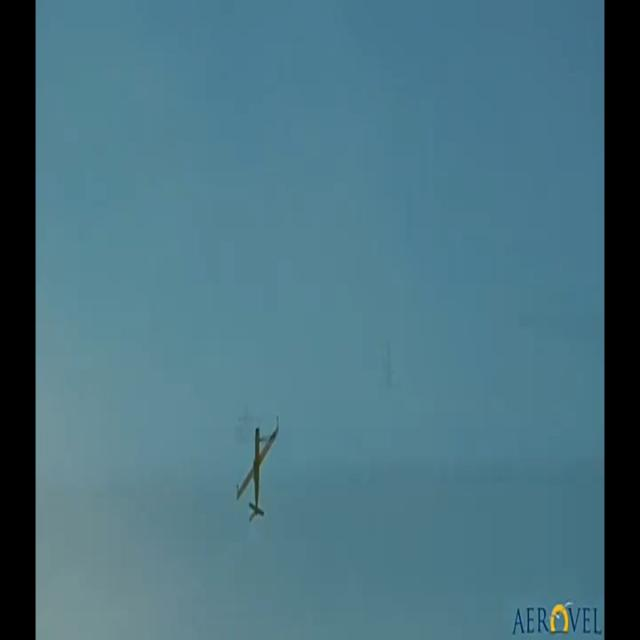iha: (236, 445, 279, 494)
